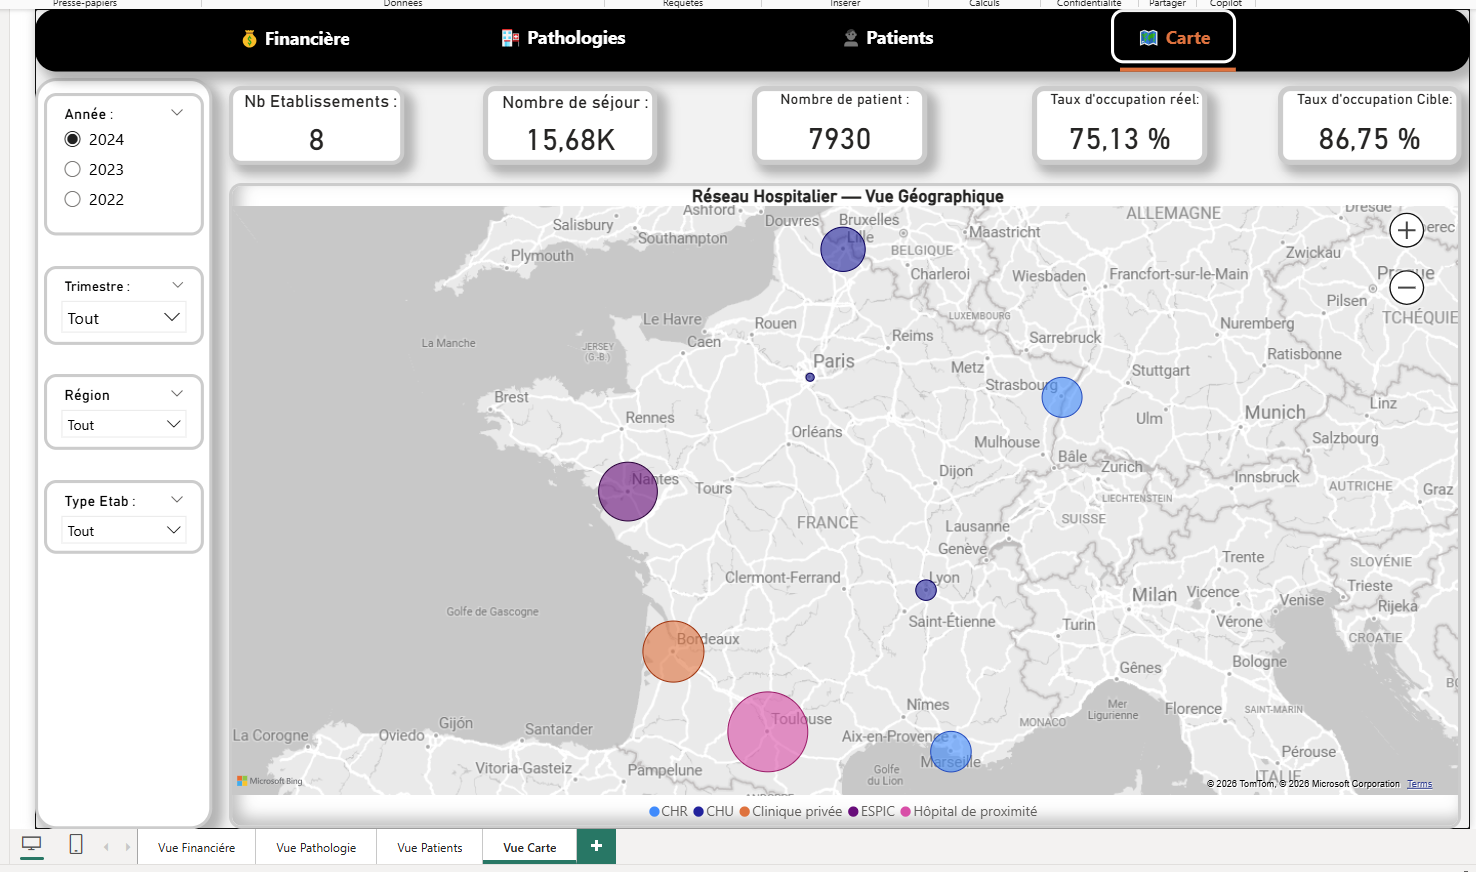

The page's visual inventory and layout, read from the dashboard file:
{"tool":"powerbi","page":{"name":"Vue Carte","canvas":[1400,800],"ordinal":3},"visuals":[{"type":"shape","box":[0,67.4,173.3,732.6],"z":0},{"type":"slicer","fields":{"Values":["dim_temps.annee"]},"box":[9,82,156,139],"z":1000},{"type":"slicer","fields":{"Values":["dim_temps.trimestre_libelle"]},"box":[9,251,156,77],"z":2000},{"type":"textbox","box":[0,0,1400,61],"z":3000},{"type":"slicer","fields":{"Values":["dim_hopital.type_etablissement"]},"box":[9,460,156,72],"z":4000},{"type":"card","title":"Nb Etablissements : ","fields":{"Values":["Mesures.Nombre Établissements"]},"box":[189.3,75.1,170.7,77.1],"z":5000},{"type":"card","title":"Nombre de séjour :","fields":{"Values":["Mesures.Nombre Séjours"]},"box":[437.1,75.1,169.8,77.1],"z":6000},{"type":"card","title":"Nombre de patient : ","fields":{"Values":["Mesures.Nombre Patients"]},"box":[699.5,75.1,170.7,77.1],"z":7000},{"type":"actionButton","box":[173.7,1,159,53.7],"z":8000},{"type":"actionButton","box":[1049.8,0,122,52.7],"z":9000},{"type":"actionButton","box":[437.1,0,154.1,52.7],"z":10000},{"type":"actionButton","box":[744.4,0,173.7,52.7],"z":11000},{"type":"shape","box":[1059,53,113,13],"z":12000},{"type":"card","title":"Taux d''occupation réel:","fields":{"Values":["Mesures.Taux Occupation réel %"]},"box":[972.7,75.1,170.7,77.1],"z":13000},{"type":"map","title":"Réseau Hospitalier — Vue Géographique","fields":{"X":["dim_hopital.longitude"],"Y":["dim_hopital.latitude"],"Series":["dim_hopital.type_etablissement"],"Size":["Mesures.Taux Occupation réel %"]},"box":[189,170,1202,630],"z":14000},{"type":"slicer","fields":{"Values":["dim_hopital.region"]},"box":[9,356,156,74],"z":15000},{"type":"card","title":"Taux d''occupation Cible:","fields":{"Values":["Mesures.Taux Occupation Cible"]},"box":[1212.7,75.1,178.5,77.1],"z":16000}]}

Visuals, with their boxes on the page's 1400x800 design canvas (x1, y1, x2, y2). These are canvas units, not pixel positions in the 1476x872 screenshot, which may show the page scaled, cropped or inside an application window:
shape: region(0, 67, 173, 800)
slicer - dim_temps.annee: region(9, 82, 165, 221)
slicer - dim_temps.trimestre_libelle: region(9, 251, 165, 328)
textbox: region(0, 0, 1400, 61)
slicer - dim_hopital.type_etablissement: region(9, 460, 165, 532)
"Nb Etablissements : " card: region(189, 75, 360, 152)
"Nombre de séjour :" card: region(437, 75, 607, 152)
"Nombre de patient : " card: region(700, 75, 870, 152)
actionButton: region(174, 1, 333, 55)
actionButton: region(1050, 0, 1172, 53)
actionButton: region(437, 0, 591, 53)
actionButton: region(744, 0, 918, 53)
shape: region(1059, 53, 1172, 66)
"Taux d''occupation réel:" card: region(973, 75, 1143, 152)
"Réseau Hospitalier — Vue Géographique" map: region(189, 170, 1391, 800)
slicer - dim_hopital.region: region(9, 356, 165, 430)
"Taux d''occupation Cible:" card: region(1213, 75, 1391, 152)
